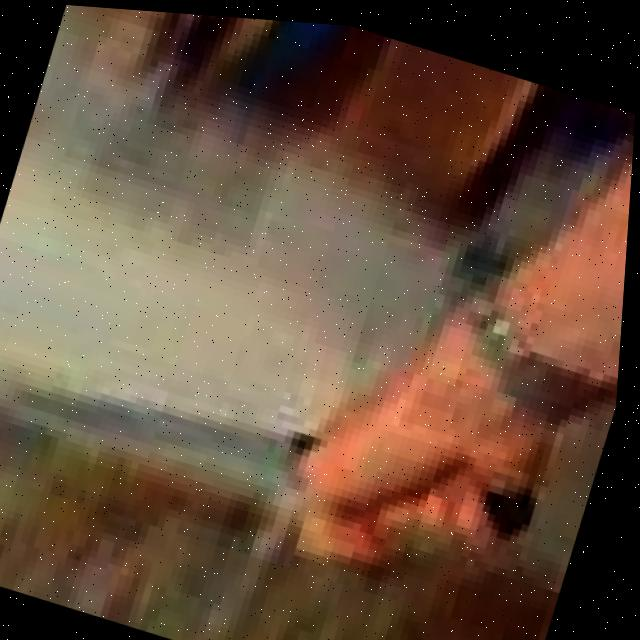knife: (9, 347, 322, 501)
